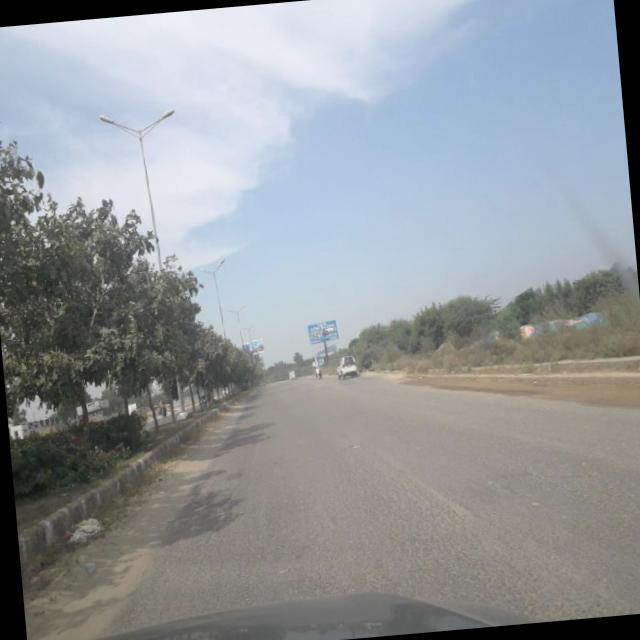crack: (153, 400, 640, 640), (170, 458, 249, 606)
pothole: (408, 462, 484, 530)
